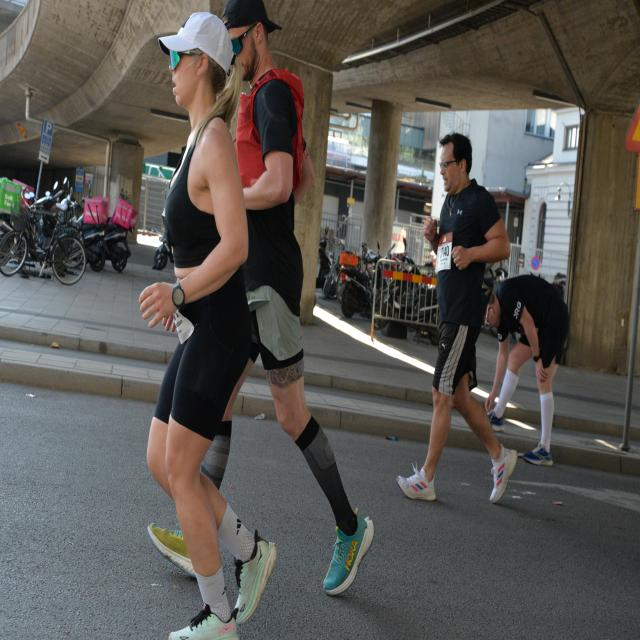runner-detect: (136, 12, 278, 640), (393, 110, 520, 511)
